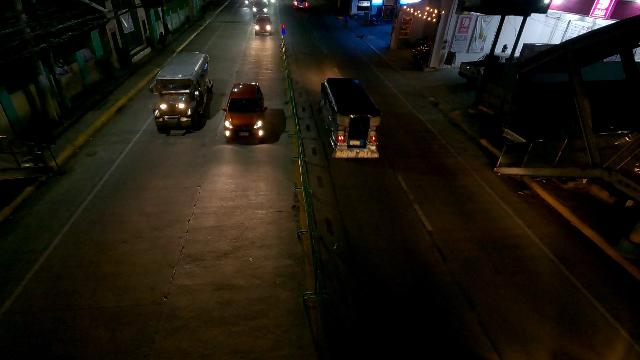car: (222, 80, 267, 143), (251, 15, 273, 36), (252, 0, 269, 16), (244, 0, 255, 10)
jeepney: (318, 75, 381, 163), (152, 51, 212, 133)
